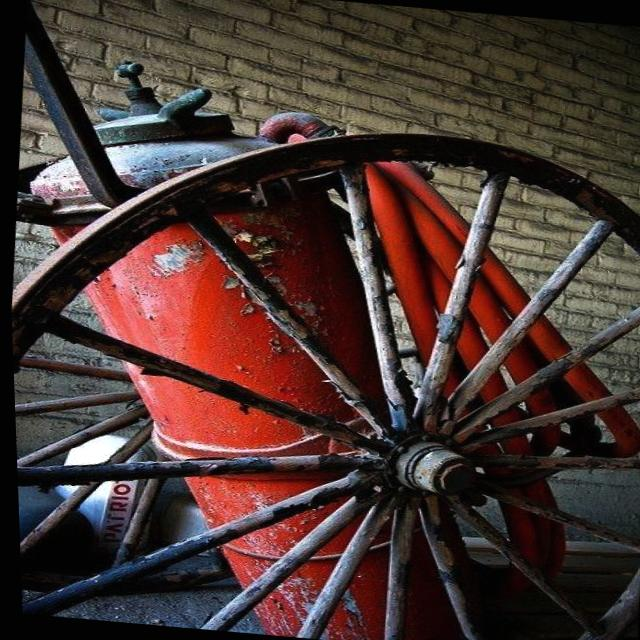FireExtinguisher: (1, 50, 538, 640)
